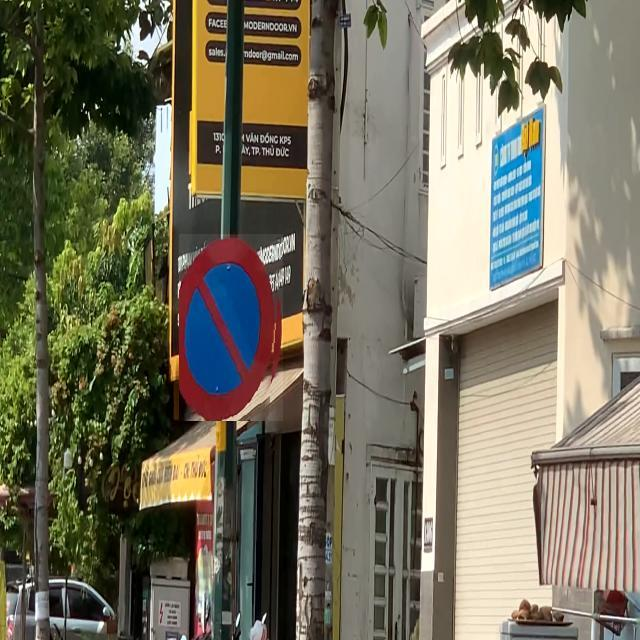P-131a: (179, 234, 283, 421)
